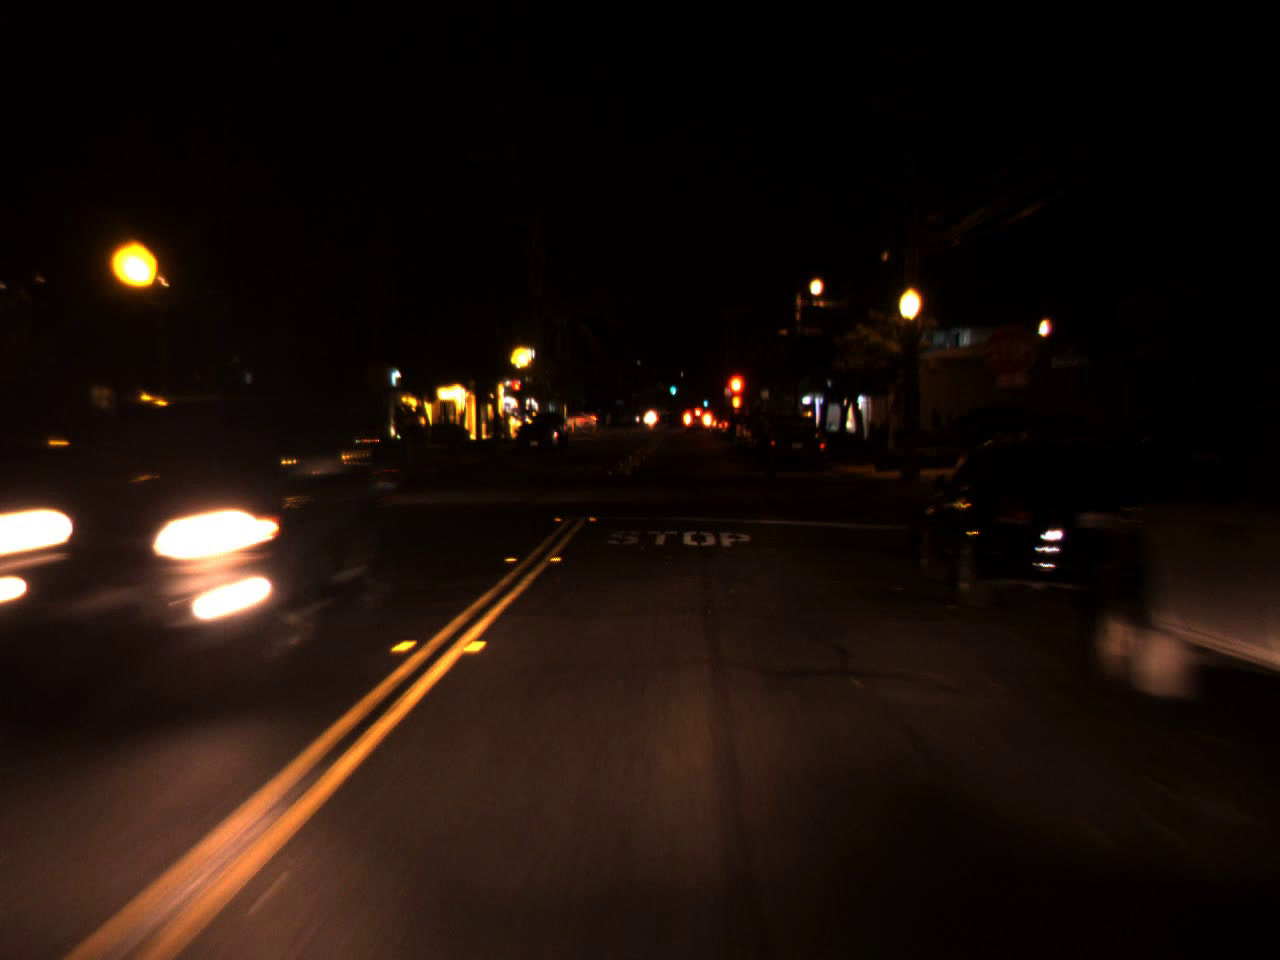go: (669, 376, 676, 397), (701, 396, 708, 408)
stop: (728, 373, 744, 408), (507, 378, 522, 402)
